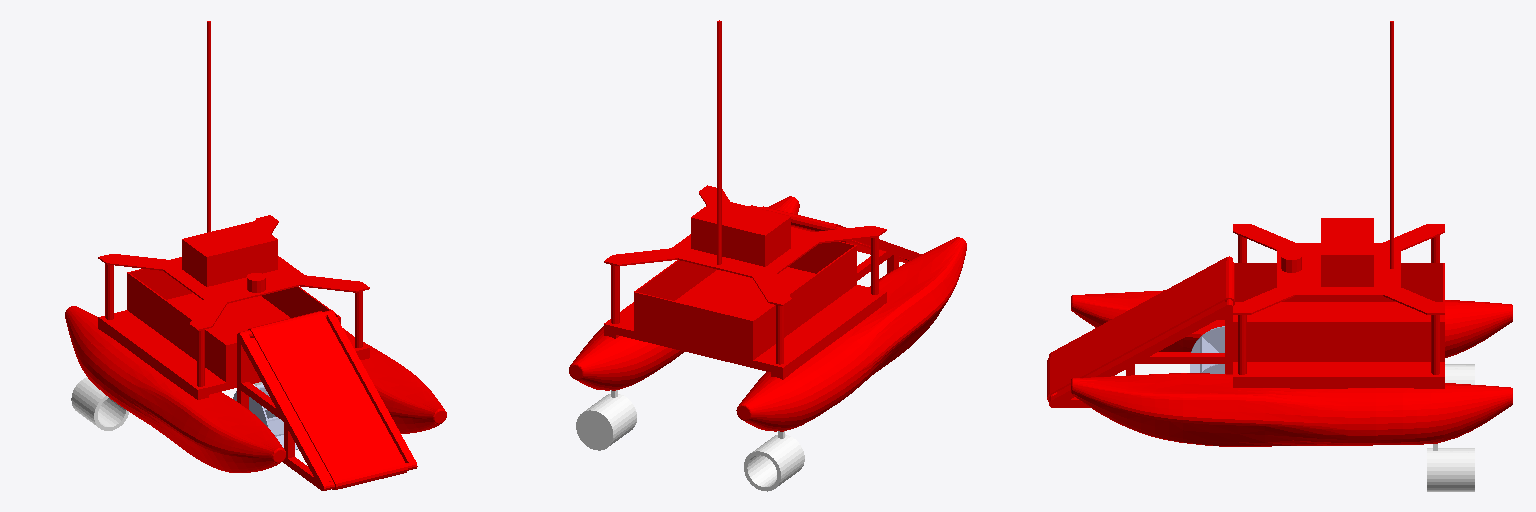
URDF robot description (catamaran):
<?xml version="1.0" encoding="utf-8"?>
<!-- This URDF was automatically created by SolidWorks to URDF Exporter! Originally created by [author] ([email redacted]) 
     Commit Version: 1.6.0-4-g7f85cfe  Build Version: 1.6.7995.38578
     For more information, please see http://wiki.ros.org/sw_urdf_exporter -->
<robot
  name="catamaran">
  <link name="base_footprint"/>
  <joint name="footprint_to_base_link" type="fixed">
    <parent link="base_footprint"/>
    <child link="base_link"/>
    <origin xyz="0 0 0" rpy="0 0 0"/>
  </joint>
  <link
    name="base_link">
    <inertial>
      <origin
        xyz="-3.8439E-06 -0.03234 0.32048"
        rpy="0 0 0" />
      <mass
        value="682.95" />
      <inertia
        ixx="221.38"
        ixy="0.00069787"
        ixz="0.0018539"
        iyy="229.43"
        iyz="-3.3962"
        izz="22.436" />
    </inertial>
    <visual>
      <origin
        xyz="0 0 0"
        rpy="0 0 0" />
      <geometry>
        <mesh
          filename="package://catamaran/meshes/base_link.STL" />
      </geometry>
      <material name="">
        <color rgba="1 0 0 1" /> <!-- Red color -->
      </material>
    </visual>
    <!-- <collision>
      <origin
        xyz="0 0 0"
        rpy="0 0 0" />
      <geometry>
        <mesh
          filename="package://catamaran/meshes/base_link.STL" />
      </geometry>
    </collision> -->
  </link>
  <link
    name="waterwheel">
    <inertial>
      <origin
        xyz="-8.7255E-17 2.7756E-16 -5.5511E-16"
        rpy="0 0 0" />
      <mass
        value="11.524" />
      <inertia
        ixx="0.22689"
        ixy="8.0621E-18"
        ixz="1.7328E-17"
        iyy="0.46299"
        iyz="-9.9067E-16"
        izz="0.46299" />
    </inertial>
    <visual>
      <origin
        xyz="0 0 0"
        rpy="0 0 0" />
      <geometry>
        <mesh
          filename="package://catamaran/meshes/waterwheel.STL" />
      </geometry>
      <material
        name="">
        <color
          rgba="0.79216 0.81961 0.93333 1" />
      </material>
    </visual>
    <!-- <collision>
      <origin
        xyz="0 0 0"
        rpy="0 0 0" />
      <geometry>
        <mesh
          filename="package://catamaran/meshes/waterwheel.STL" />
      </geometry>
    </collision> -->
  </link>
  <joint
    name="base_to_waterwheel"
    type="fixed">
    <origin
      xyz="0 -0.68537 -0.15538"
      rpy="1.5708 0 0" />
    <parent
      link="base_link" />
    <child
      link="waterwheel" />
    <axis
      xyz="1 0 0" />
  </joint>
  <link
    name="l_thruster">
    <inertial>
      <origin
        xyz="0 0.0012259 0.13677"
        rpy="0 0 0" />
      <mass
        value="4.9984" />
      <inertia
        ixx="0.064215"
        ixy="2.3399E-18"
        ixz="5.7008E-20"
        iyy="0.063315"
        iyz="0.00053171"
        izz="0.064415" />
    </inertial>
    <visual>
      <origin
        xyz="0 0 0"
        rpy="0 0 0" />
      <geometry>
        <mesh
          filename="package://catamaran/meshes/l_thruster.STL" />
      </geometry>
      <material
        name="">
        <color
          rgba="1 1 1 1" />
      </material>
    </visual>
    <!-- <collision>
      <origin
        xyz="0 0 0"
        rpy="0 0 0" />
      <geometry>
        <mesh
          filename="package://catamaran/meshes/l_thruster.STL" />
      </geometry>
    </collision> -->
  </link>
  <joint
    name="base_to_l_thruster"
    type="fixed">
    <origin
      xyz="0.55834 0.43963 -0.45538"
      rpy="1.5708 0 3.1416" />
    <parent
      link="base_link" />
    <child
      link="l_thruster" />
    <axis
      xyz="0 0 0" />
  </joint>
  <link
    name="r_thruster">
    <inertial>
      <origin
        xyz="0 0 0"
        rpy="0 0 0" />
      <mass
        value="0" />
      <inertia
        ixx="0"
        ixy="0"
        ixz="0"
        iyy="0"
        iyz="0"
        izz="0" />
    </inertial>
    <visual>
      <origin
        xyz="0 0 0"
        rpy="0 0 0" />
      <geometry>
        <mesh
          filename="package://catamaran/meshes/r_thruster.STL" />
      </geometry>
      <material
        name="">
        <color
          rgba="1 1 1 1" />
      </material>
    </visual>
    <!-- <collision>
      <origin
        xyz="0 0 0"
        rpy="0 0 0" />
      <geometry>
        <mesh
          filename="package://catamaran/meshes/r_thruster.STL" />
      </geometry>
    </collision> -->
  </link>
  <joint
    name="base_to_r_thruster"
    type="fixed">
    <origin
      xyz="-0.56166 0.43963 -0.45538"
      rpy="1.5708 0 3.1416" />
    <parent
      link="base_link" />
    <child
      link="r_thruster" />
    <axis
      xyz="0 0 0" />
  </joint>
</robot>

--- Facts derived from the render (not from the file) ---
3 views of the same robot in one strip: view 1: azimuth 30°, elevation 25°; view 2: azimuth 150°, elevation 25°; view 3: azimuth 270°, elevation 25° (orthographic).
Model catamaran with 5 links and 4 joints (4 fixed), rooted at base_footprint, posed all joints at 0.
Links seen in each view (by area): view 1: base_link, r_thruster, waterwheel; view 2: base_link, l_thruster, r_thruster; view 3: base_link, l_thruster, waterwheel, r_thruster.
Link boxes in pixels (x1,y1,x2,y2): base_link: (65,21,446,490); r_thruster: (71,377,128,430); waterwheel: (233,384,297,449); base_link: (569,20,966,431); l_thruster: (576,390,636,450); r_thruster: (744,431,804,491); base_link: (1047,21,1512,446); l_thruster: (1427,444,1474,491); waterwheel: (1190,326,1224,373); r_thruster: (1445,364,1474,384).
Size in the robot's own frame: 1.57 by 2.65 by 2.67 metres.
Meshes: 4 distinct files referenced, 4 mesh visuals loaded (4 binary STL).